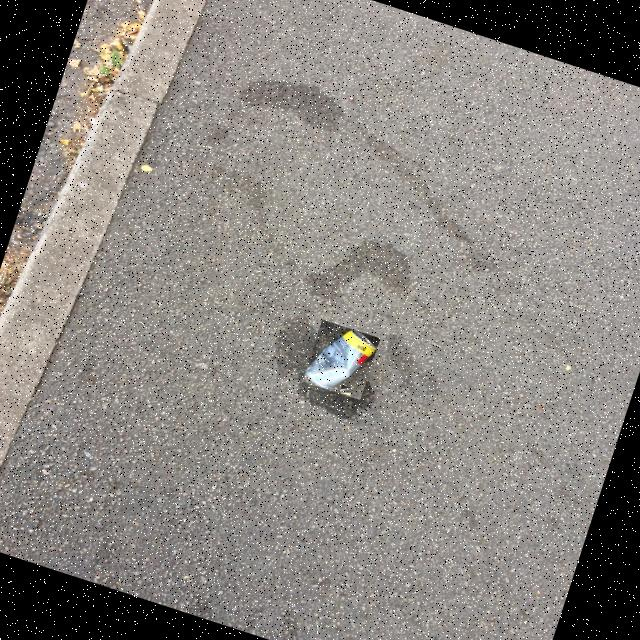Drink can: (306, 330, 377, 389)
Pop tab: (341, 389, 352, 393)
